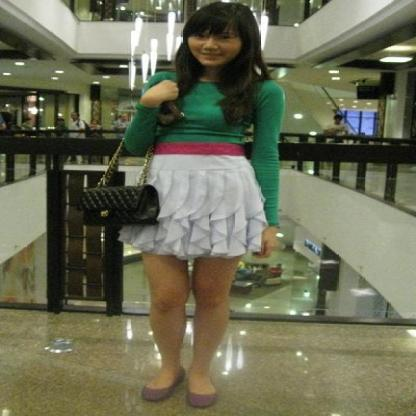bag: (72, 180, 160, 233)
jacket: (112, 80, 286, 226)
shoe: (142, 387, 172, 404)
skirt: (140, 155, 268, 255)
